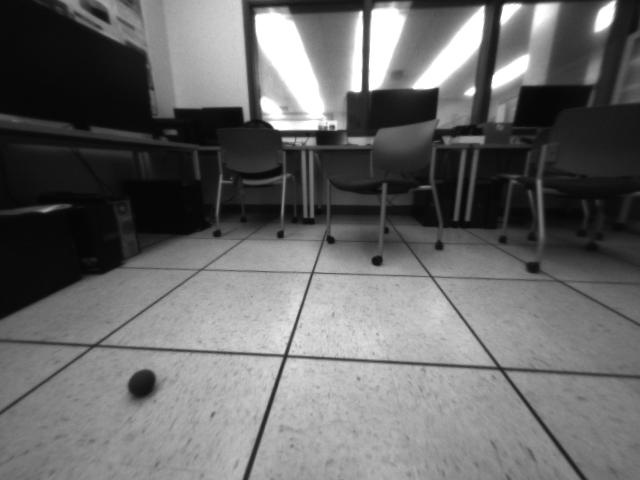dogtoy: (120, 357, 170, 401)
